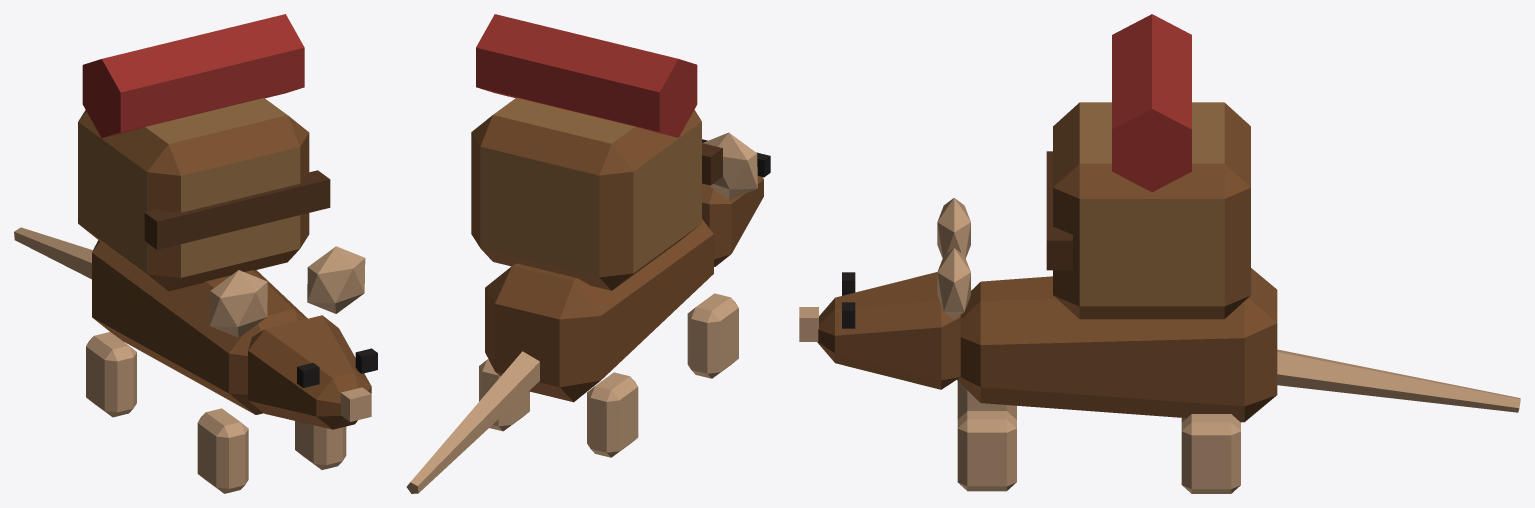
File: pack_rat.glb
3 views of the same model, side by side, from view 1: azimuth 30°, elevation 25°; view 2: azimuth 150°, elevation 25°; view 3: azimuth 270°, elevation 25° (orthographic). The views are drawn at different scales.
Parts seen in each view (by area): view 1: body, head, leg_fr, leg_br, leg_fl, tail; view 2: body, head, tail, leg_fr, leg_br, leg_bl; view 3: body, head, tail, leg_fl, leg_bl, leg_fr.
Boxes of the visible parts, x1,y1,x2,y2 form: body: (78,14,330,414); head: (209,246,377,429); leg_fr: (197,408,248,493); leg_br: (86,332,136,417); leg_fl: (295,421,346,469); tail: (14,227,92,279); body: (471,14,722,402); head: (702,132,770,266); tail: (406,351,539,493); leg_fr: (687,293,738,378); leg_br: (587,372,638,457); leg_bl: (479,359,529,431); body: (957,14,1277,422); head: (799,198,970,389); tail: (1277,349,1520,412); leg_fl: (957,411,1016,491); leg_bl: (1181,414,1240,493); leg_fr: (957,381,1016,419).
Size of the model in its own units: 0.34 by 0.67 by 1.09.
